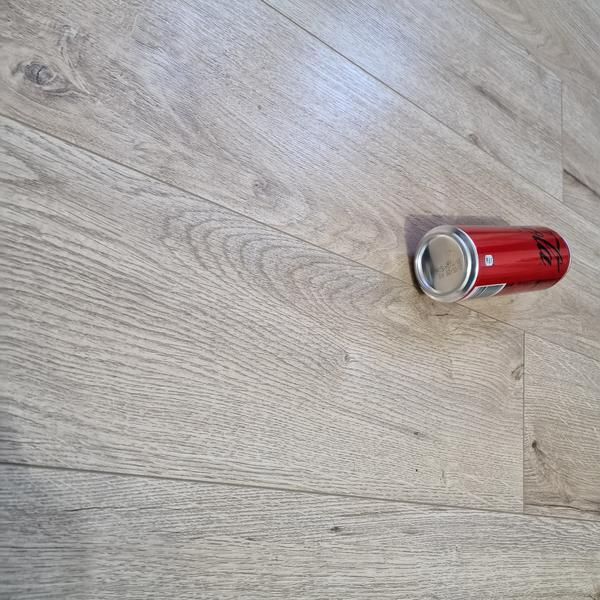can: (405, 208, 574, 307)
